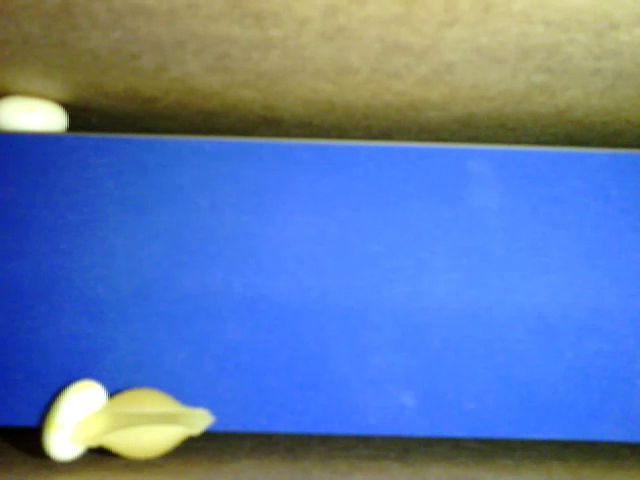shell: (72, 386, 216, 460)
